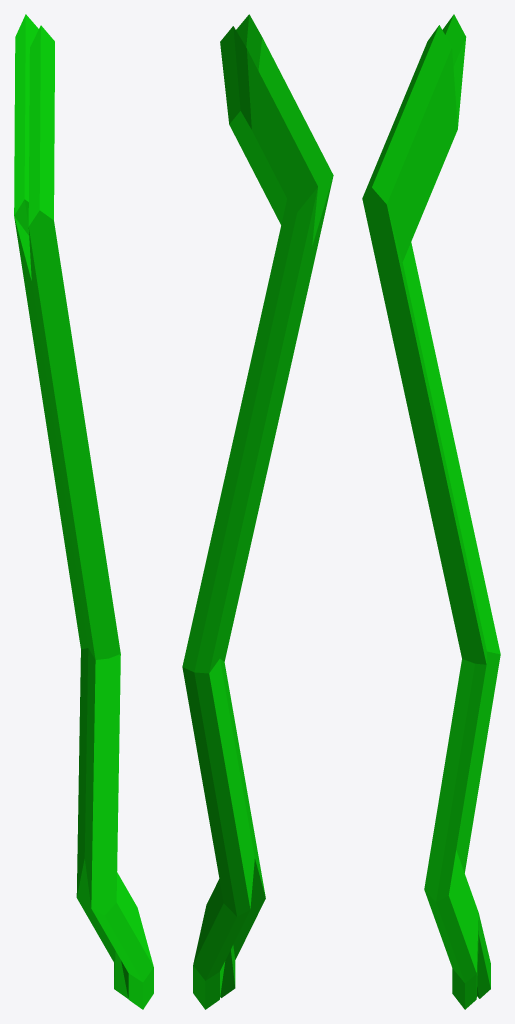
The model's file is Grass.glb.
3 renders of one model, left to right at view 1: azimuth 30°, elevation 25°; view 2: azimuth 150°, elevation 25°; view 3: azimuth 330°, elevation 25°, orthographic. The views are drawn at different scales.
Visible parts, largest first — view 1: Grass; view 2: Grass; view 3: Grass.
Part boxes in pixels (x1=…): Grass: x1=14, y1=14, x2=153, y2=1009; Grass: x1=182, y1=14, x2=333, y2=1009; Grass: x1=362, y1=14, x2=500, y2=1009.
Size of the model in its own units: 9.62 by 73.52 by 7.26.
